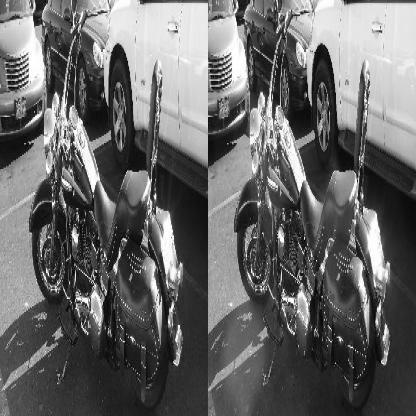moto: (8, 86, 226, 408), (222, 82, 416, 406)
